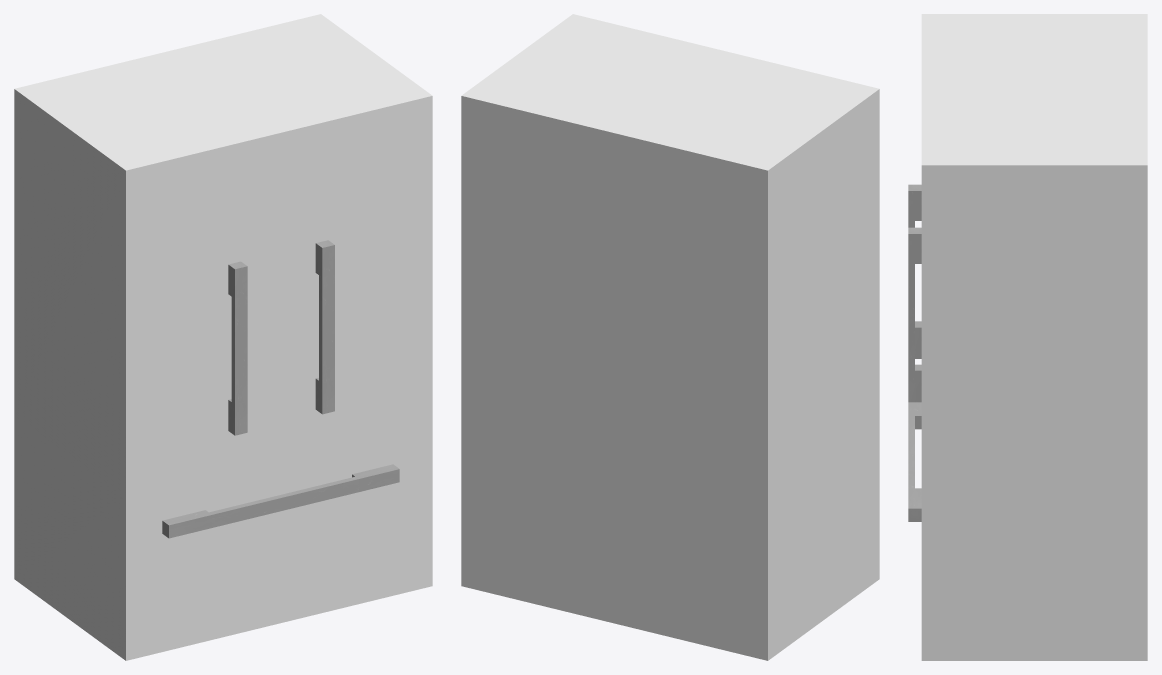
File: Fridge.fbx
3 views of the same model, side by side, from view 1: azimuth 30°, elevation 25°; view 2: azimuth 150°, elevation 25°; view 3: azimuth 270°, elevation 25° (orthographic).
Parts seen in each view (by area): view 1: RT_IP_Furniture:Fridge, RT_IP_Furniture:Handle7, RT_IP_Furniture:Handle8, RT_IP_Furniture:Handle9; view 2: RT_IP_Furniture:Fridge; view 3: RT_IP_Furniture:Fridge, RT_IP_Furniture:Handle9, RT_IP_Furniture:Handle7, RT_IP_Furniture:Handle8.
Part boxes in pixels (x1,y1,x2,y2): RT_IP_Furniture:Fridge: (14, 14, 432, 660); RT_IP_Furniture:Handle7: (162, 464, 399, 538); RT_IP_Furniture:Handle8: (228, 261, 247, 435); RT_IP_Furniture:Handle9: (315, 240, 334, 414); RT_IP_Furniture:Fridge: (461, 14, 879, 660); RT_IP_Furniture:Fridge: (921, 14, 1147, 660); RT_IP_Furniture:Handle9: (908, 227, 921, 402); RT_IP_Furniture:Handle7: (908, 402, 921, 521); RT_IP_Furniture:Handle8: (908, 184, 921, 358).
Bounding box in the file's own units: 1.51 × 2.3 × 1.01.
